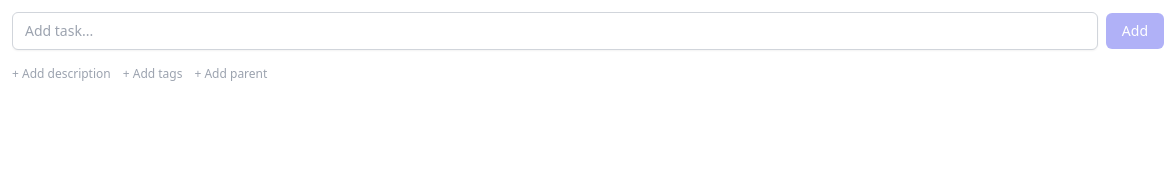
CreateTodoForm › Description Toggle › should show textarea when description toggle is clicked
This screenshot has width=1176, height=194.
Click the button "+ Add description".
click(61, 74)  # box [12,62,111,86]
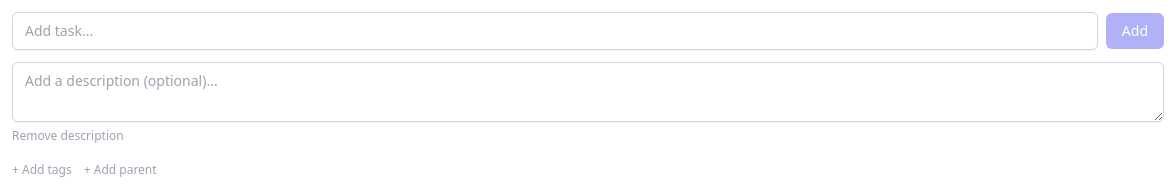
Expected: the text box with placeholder "Add a description (optional)..." is shown, [12,62,1164,122]
